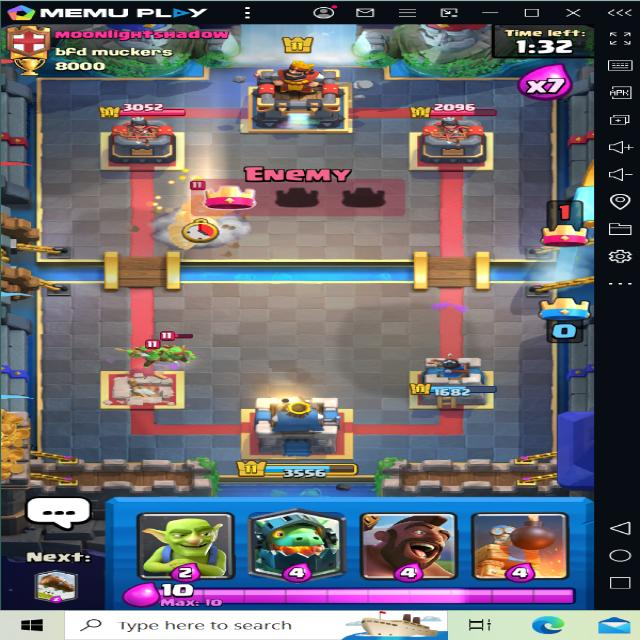mighty-miner: (156, 182, 248, 248)
spear-goblin: (160, 330, 200, 362), (128, 335, 162, 369)
